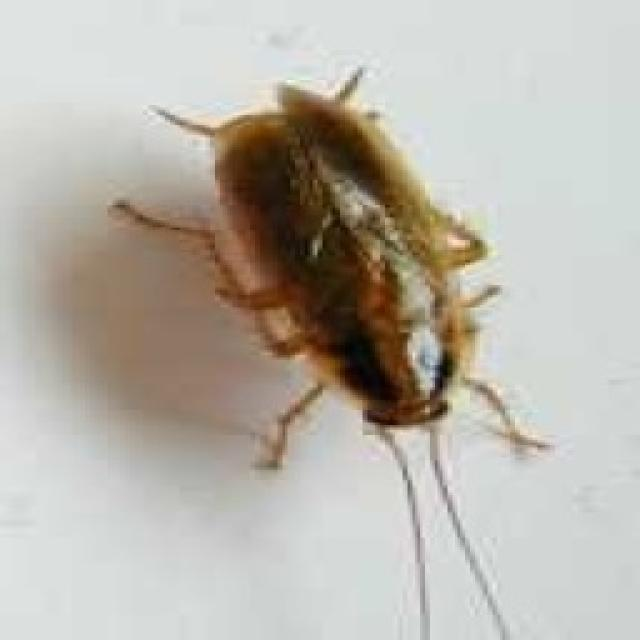cockroach: (207, 83, 552, 487)
